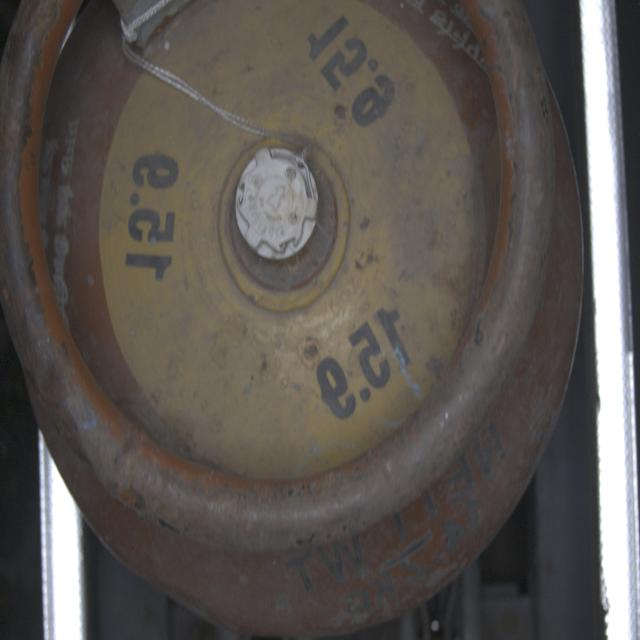Cap: (231, 142, 323, 266)
